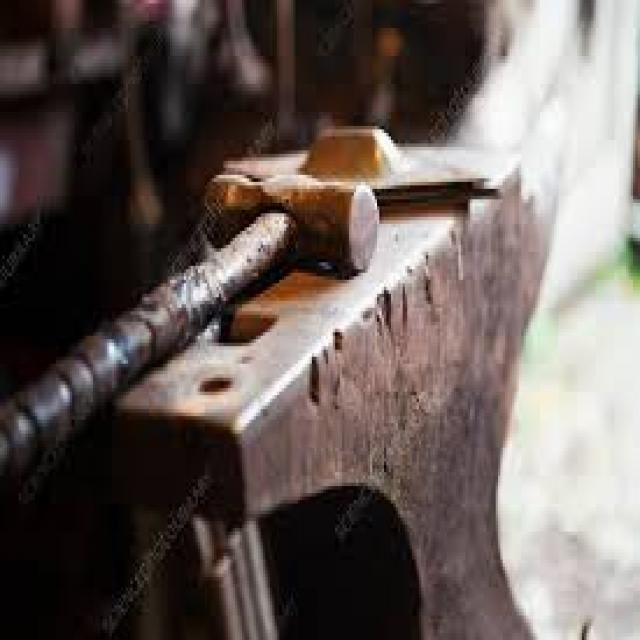hammer: (0, 157, 389, 538)
